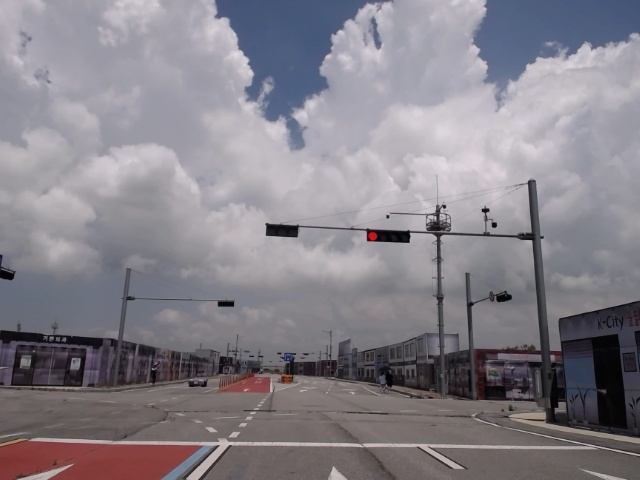red_4: (367, 229, 410, 243)
